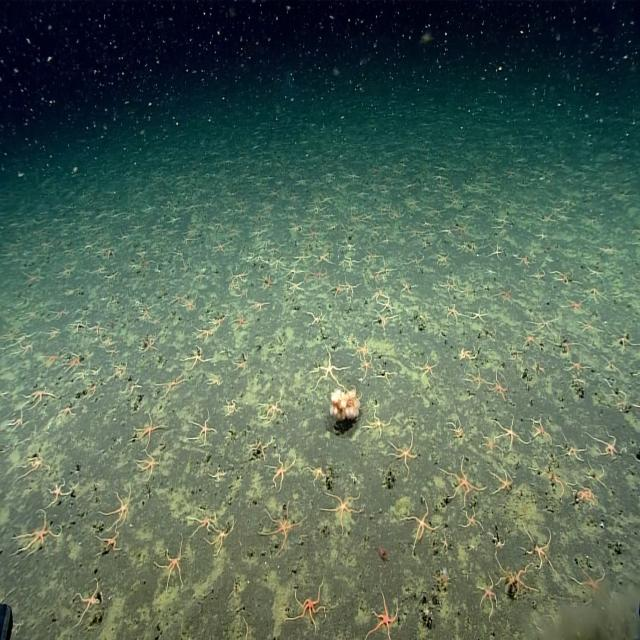brittle-stars: (3, 503, 72, 567), (284, 558, 346, 627), (257, 494, 314, 554), (362, 574, 408, 640), (565, 546, 613, 608), (432, 448, 488, 498), (401, 482, 442, 548), (63, 576, 113, 630), (512, 522, 564, 570), (158, 528, 193, 594), (487, 405, 532, 456), (318, 488, 364, 536), (303, 348, 350, 394), (183, 404, 218, 460), (493, 555, 540, 596), (385, 422, 420, 476), (96, 483, 135, 528), (124, 413, 169, 452), (201, 518, 237, 566), (518, 403, 559, 444), (131, 448, 170, 491), (266, 444, 298, 496), (181, 502, 220, 544), (8, 449, 46, 491), (148, 370, 186, 411), (10, 385, 56, 418), (484, 452, 516, 496), (601, 378, 640, 413), (41, 476, 78, 511), (250, 392, 288, 425), (477, 568, 501, 620), (359, 405, 399, 436), (127, 331, 162, 366), (527, 459, 564, 492), (249, 423, 276, 464), (298, 456, 332, 488), (456, 495, 486, 531), (412, 347, 442, 383), (90, 528, 123, 560), (522, 314, 562, 340), (555, 436, 589, 466), (587, 433, 620, 462), (174, 351, 211, 376), (100, 358, 128, 391), (352, 350, 378, 385), (480, 368, 510, 398), (30, 348, 58, 380), (458, 362, 489, 390), (434, 301, 467, 327), (359, 311, 396, 334), (0, 413, 27, 444), (118, 375, 140, 413), (606, 328, 638, 354), (448, 337, 479, 363), (50, 402, 75, 434), (596, 350, 624, 378), (184, 327, 218, 350), (532, 610, 558, 640), (6, 342, 31, 373), (218, 394, 242, 426), (1, 327, 29, 354), (570, 483, 596, 512), (16, 268, 45, 294), (71, 386, 101, 411), (387, 275, 417, 300), (582, 465, 614, 488), (558, 293, 590, 316), (54, 355, 82, 381), (48, 266, 77, 291), (226, 351, 250, 381), (549, 332, 581, 354), (28, 329, 59, 351), (472, 423, 497, 450), (347, 334, 371, 362), (562, 355, 591, 378), (222, 312, 246, 339), (100, 341, 117, 379), (335, 250, 363, 273), (446, 408, 466, 440), (517, 328, 543, 352), (485, 523, 507, 551), (571, 321, 605, 339), (206, 462, 230, 487), (38, 306, 62, 331), (371, 296, 396, 320), (295, 311, 326, 330), (78, 263, 107, 283), (580, 287, 608, 307), (372, 364, 396, 387), (299, 269, 325, 290), (546, 269, 574, 288), (437, 276, 458, 301), (61, 321, 87, 341), (483, 285, 510, 304), (176, 295, 198, 318), (466, 306, 489, 328), (227, 268, 252, 288), (341, 279, 366, 299), (277, 283, 303, 302), (325, 278, 344, 304), (584, 263, 606, 285), (244, 298, 268, 318), (523, 265, 548, 284), (456, 280, 477, 302), (526, 355, 548, 376), (402, 251, 426, 270), (206, 242, 231, 260), (431, 246, 449, 271), (100, 267, 118, 292), (352, 251, 378, 268), (201, 372, 223, 392), (252, 278, 274, 298), (513, 250, 535, 270), (485, 244, 508, 263), (504, 346, 528, 364), (277, 266, 302, 283), (133, 306, 151, 329), (202, 222, 222, 242), (245, 224, 265, 244), (450, 240, 475, 256), (312, 251, 334, 269), (170, 238, 192, 256), (95, 334, 110, 359), (185, 272, 204, 290), (173, 260, 190, 280), (13, 313, 34, 329), (300, 228, 321, 244), (437, 534, 452, 556), (364, 286, 379, 308), (70, 372, 87, 391), (207, 314, 226, 331), (234, 284, 250, 304), (86, 322, 98, 348), (168, 290, 181, 313), (291, 252, 312, 266), (367, 272, 388, 286), (268, 254, 284, 272), (84, 366, 97, 388), (469, 266, 492, 278), (124, 300, 139, 318), (239, 250, 256, 264), (145, 317, 159, 330), (226, 280, 240, 292), (255, 252, 265, 266)
